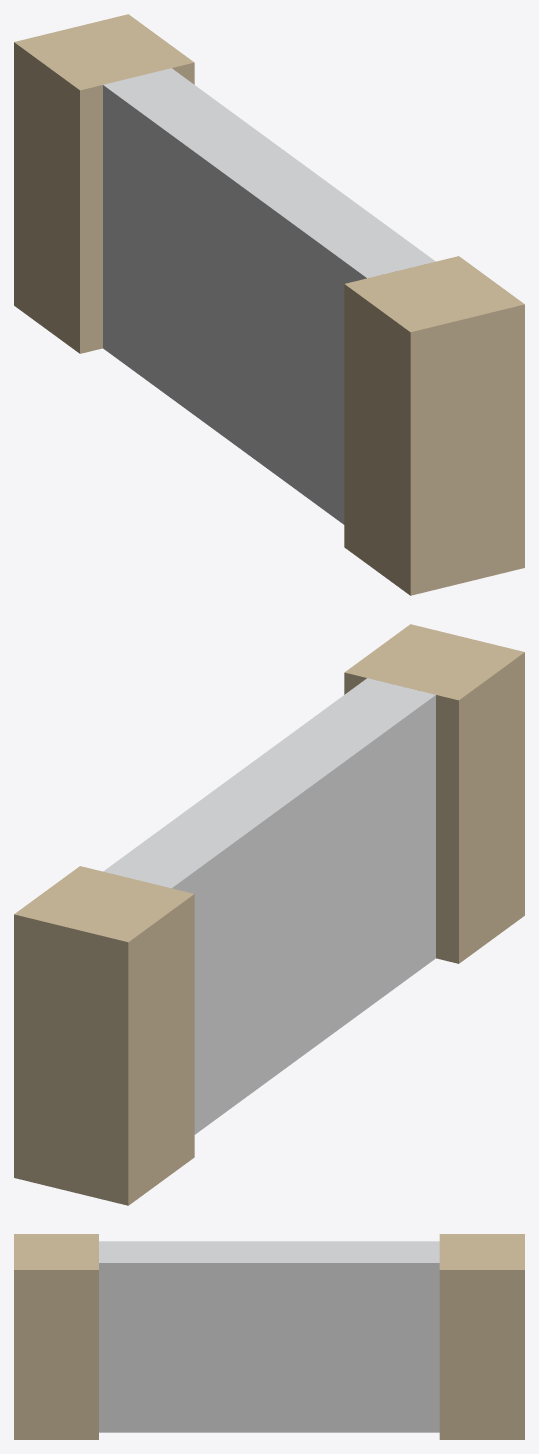
File: Wood_Tiny_Wall_01.glb
The picture shows the model from 3 angles, top to bottom: view 1: azimuth 30°, elevation 25°; view 2: azimuth 150°, elevation 25°; view 3: azimuth 270°, elevation 25°; orthographic projection. The views are drawn at different scales.
Visible parts, largest first — view 1: Wood_Tiny_Wall_01; view 2: Wood_Tiny_Wall_01; view 3: Wood_Tiny_Wall_01.
Boxes of the visible parts, x1,y1,x2,y2 form: Wood_Tiny_Wall_01: [14, 14, 524, 595]; Wood_Tiny_Wall_01: [14, 624, 524, 1205]; Wood_Tiny_Wall_01: [14, 1234, 524, 1439].
Size of the model in its own units: 0.5001 by 1.1 by 3.
